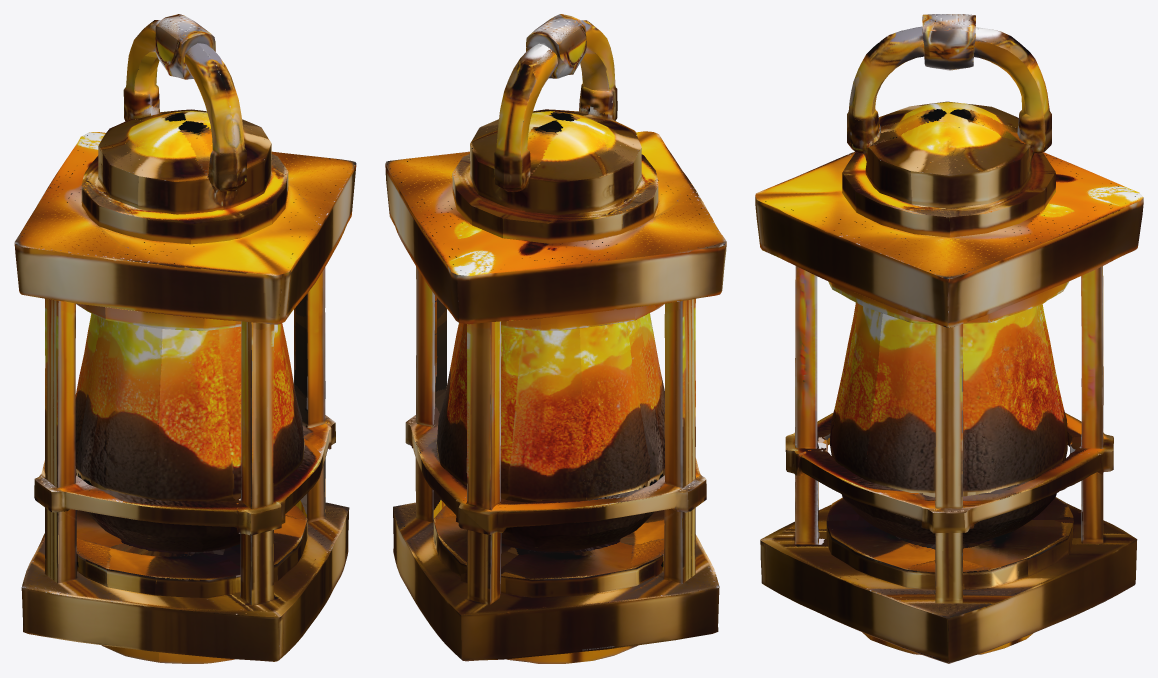
The picture shows the model from 3 angles, left to right: view 1: azimuth 30°, elevation 25°; view 2: azimuth 150°, elevation 25°; view 3: azimuth 270°, elevation 25°; orthographic projection.
Visible parts, largest first — view 1: geometry_0; view 2: geometry_0; view 3: geometry_0.
Part boxes in pixels (<box>): geometry_0: <box>14,14,356,663</box>; geometry_0: <box>385,14,726,663</box>; geometry_0: <box>755,14,1143,663</box>.
Bounding box in the file's own units: 1.06 × 1.8 × 1.06.
Materials: 1 (1 with a texture image).
